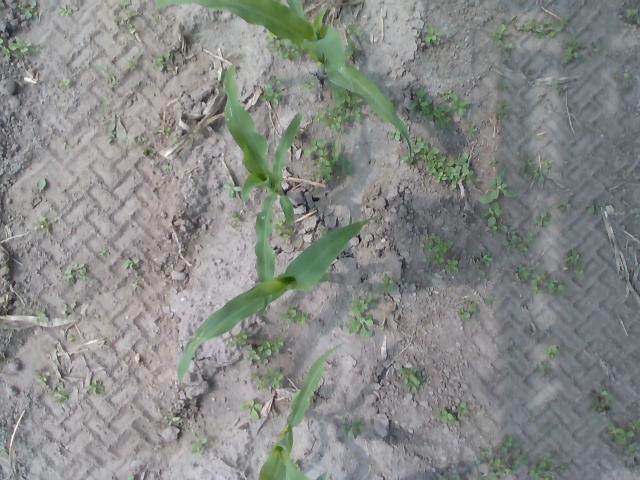Maize: (151, 0, 412, 157), (178, 216, 380, 386), (224, 62, 303, 316), (258, 344, 343, 480)
Weeds: (312, 87, 363, 132), (426, 148, 480, 188), (304, 138, 353, 180), (408, 90, 451, 128), (492, 435, 529, 476), (265, 28, 305, 62), (348, 295, 377, 339), (246, 336, 284, 364), (523, 16, 569, 39), (98, 112, 128, 146), (488, 166, 518, 200), (501, 225, 535, 255), (606, 421, 636, 454), (479, 194, 503, 235), (530, 269, 566, 295), (424, 235, 454, 266), (491, 13, 516, 50), (521, 156, 554, 184), (0, 38, 40, 60), (250, 366, 284, 391), (398, 364, 428, 392), (528, 453, 556, 480), (114, 0, 136, 34), (402, 137, 429, 163), (278, 304, 308, 326), (564, 248, 584, 280), (60, 263, 90, 283), (560, 37, 582, 64), (590, 390, 614, 414), (474, 250, 493, 280), (48, 380, 71, 404), (260, 83, 284, 106), (238, 399, 262, 420), (342, 418, 364, 440), (272, 218, 295, 239), (450, 92, 470, 116), (189, 432, 207, 458), (32, 216, 58, 234), (17, 0, 38, 21), (424, 27, 444, 48), (378, 273, 399, 292), (434, 408, 458, 424), (155, 53, 175, 72), (533, 210, 554, 228), (228, 329, 248, 347), (27, 307, 48, 323), (514, 262, 530, 282), (476, 448, 494, 464), (544, 344, 562, 360), (493, 103, 508, 122), (222, 183, 242, 197), (58, 4, 78, 17), (154, 124, 172, 138), (86, 380, 104, 394), (160, 414, 180, 426), (624, 9, 640, 24), (444, 256, 458, 273), (554, 199, 572, 212), (590, 41, 606, 55), (347, 24, 362, 38), (300, 78, 316, 91), (586, 201, 602, 214), (122, 257, 139, 269), (466, 121, 478, 138), (388, 130, 404, 142), (59, 76, 72, 90), (142, 145, 156, 158), (456, 308, 471, 320), (468, 299, 480, 314), (551, 82, 563, 96), (477, 472, 498, 480), (110, 74, 122, 86), (36, 374, 48, 386), (538, 362, 550, 374), (629, 418, 640, 431), (213, 70, 224, 83), (456, 404, 470, 414), (557, 463, 569, 474), (36, 177, 46, 190), (317, 227, 328, 238), (60, 303, 68, 318), (131, 134, 146, 142), (163, 162, 174, 172), (290, 461, 300, 472), (98, 248, 110, 257), (388, 98, 400, 107), (124, 60, 137, 68), (100, 98, 110, 108), (497, 80, 508, 89), (270, 77, 284, 84), (486, 293, 494, 305), (96, 64, 108, 71), (233, 212, 241, 222), (452, 474, 463, 480), (338, 322, 346, 330), (0, 446, 8, 454), (623, 72, 631, 80), (130, 282, 138, 289), (524, 66, 532, 73), (173, 136, 180, 143), (68, 333, 74, 341), (625, 83, 633, 89), (488, 158, 496, 164), (369, 109, 376, 115), (128, 475, 134, 480), (349, 56, 353, 60)
